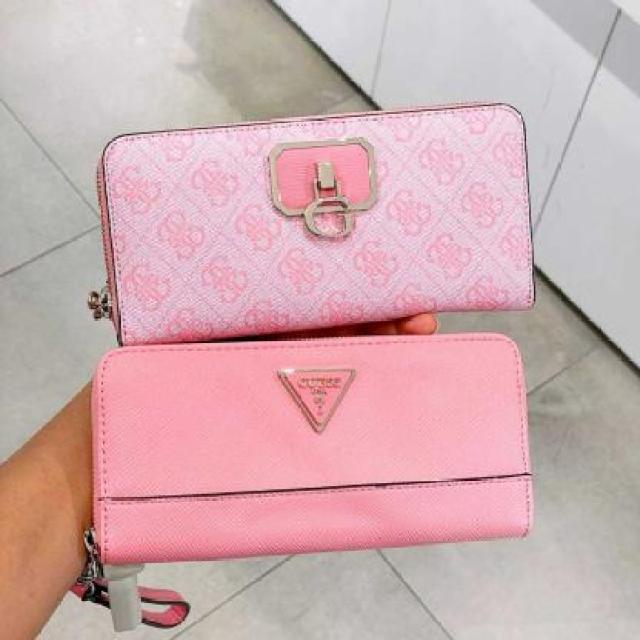Bag: (76, 99, 581, 355), (38, 320, 537, 568)
